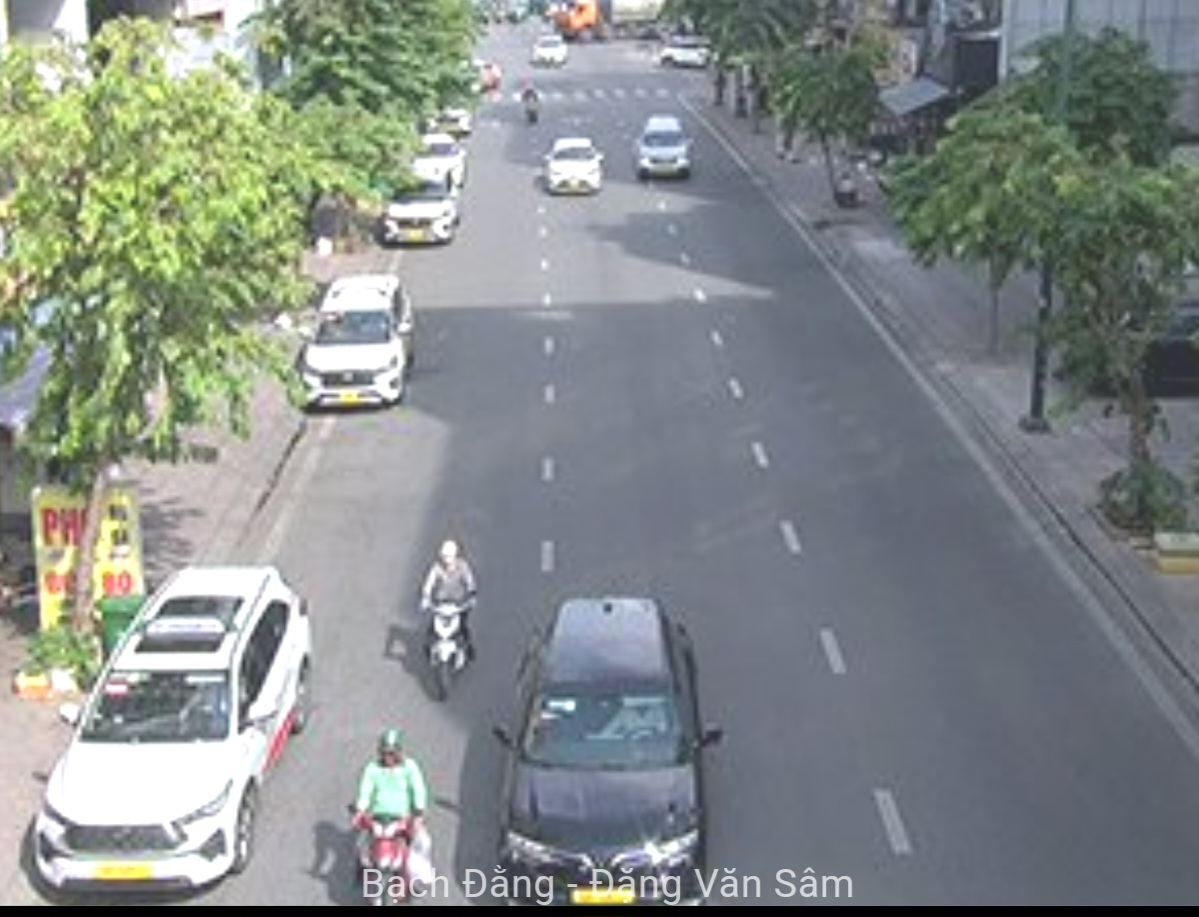car: (49, 586, 307, 899), (492, 599, 715, 917), (297, 271, 418, 422), (379, 173, 459, 248), (630, 115, 698, 182), (539, 138, 610, 197)
